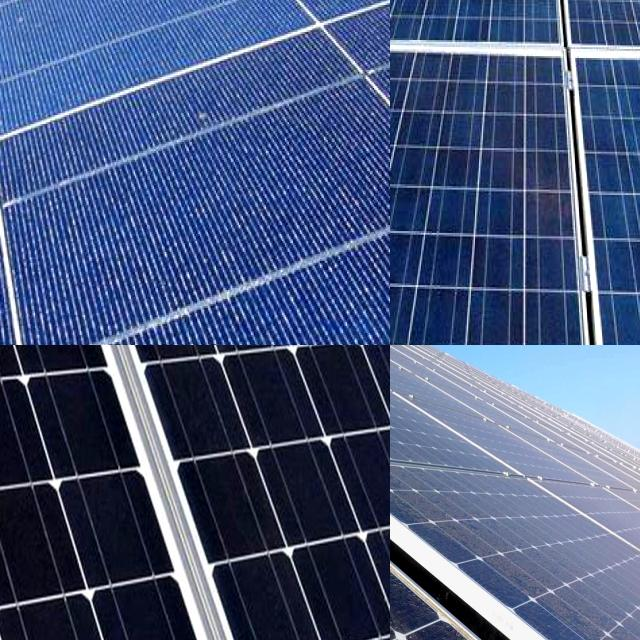crack: (0, 1, 390, 345), (45, 345, 390, 640), (390, 0, 634, 345), (0, 345, 250, 640), (390, 0, 623, 126), (559, 29, 640, 345), (390, 0, 499, 112), (542, 0, 640, 50)
dust: (390, 445, 474, 523), (390, 525, 491, 585), (390, 570, 428, 640), (390, 600, 424, 640), (390, 465, 415, 518)
